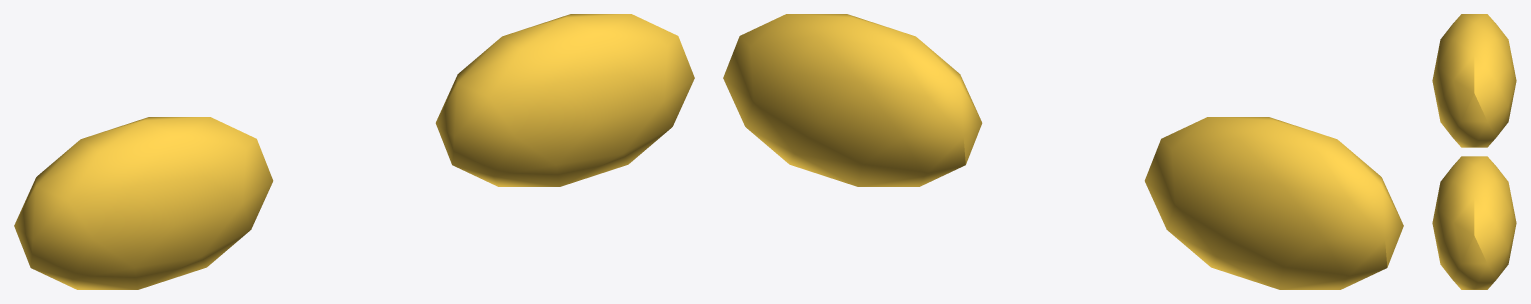
Rendered from eyes.glb.
3 renders of one model, left to right at view 1: azimuth 30°, elevation 25°; view 2: azimuth 150°, elevation 25°; view 3: azimuth 270°, elevation 25°, orthographic. The views are drawn at different scales.
Visible parts, largest first — view 1: eyes; view 2: eyes; view 3: eyes.
Boxes of the visible parts, <box> form: eyes: <box>14,14,694,289</box>; eyes: <box>723,14,1403,289</box>; eyes: <box>1432,14,1516,289</box>.
Bounding box in the file's own units: 0.2827 × 0.0675 × 0.045.
